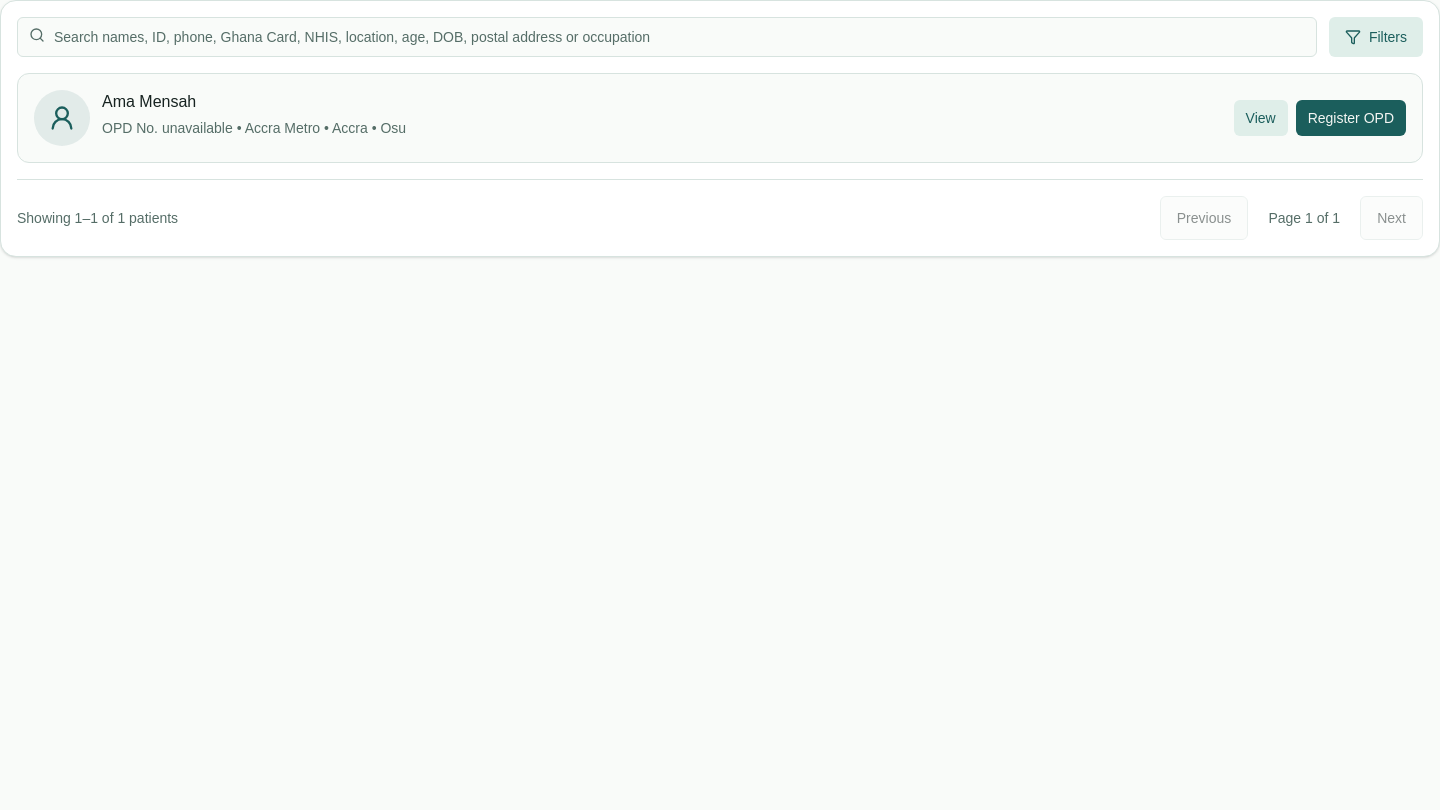
it: PatientSearchList filters › opens filter controls and applies only supported patient-list filters
Check: the text "Ama Mensah" is shown, box [102,93,196,110]
Click the button "Filters" at point(1376, 37), box [1329,17,1423,57]
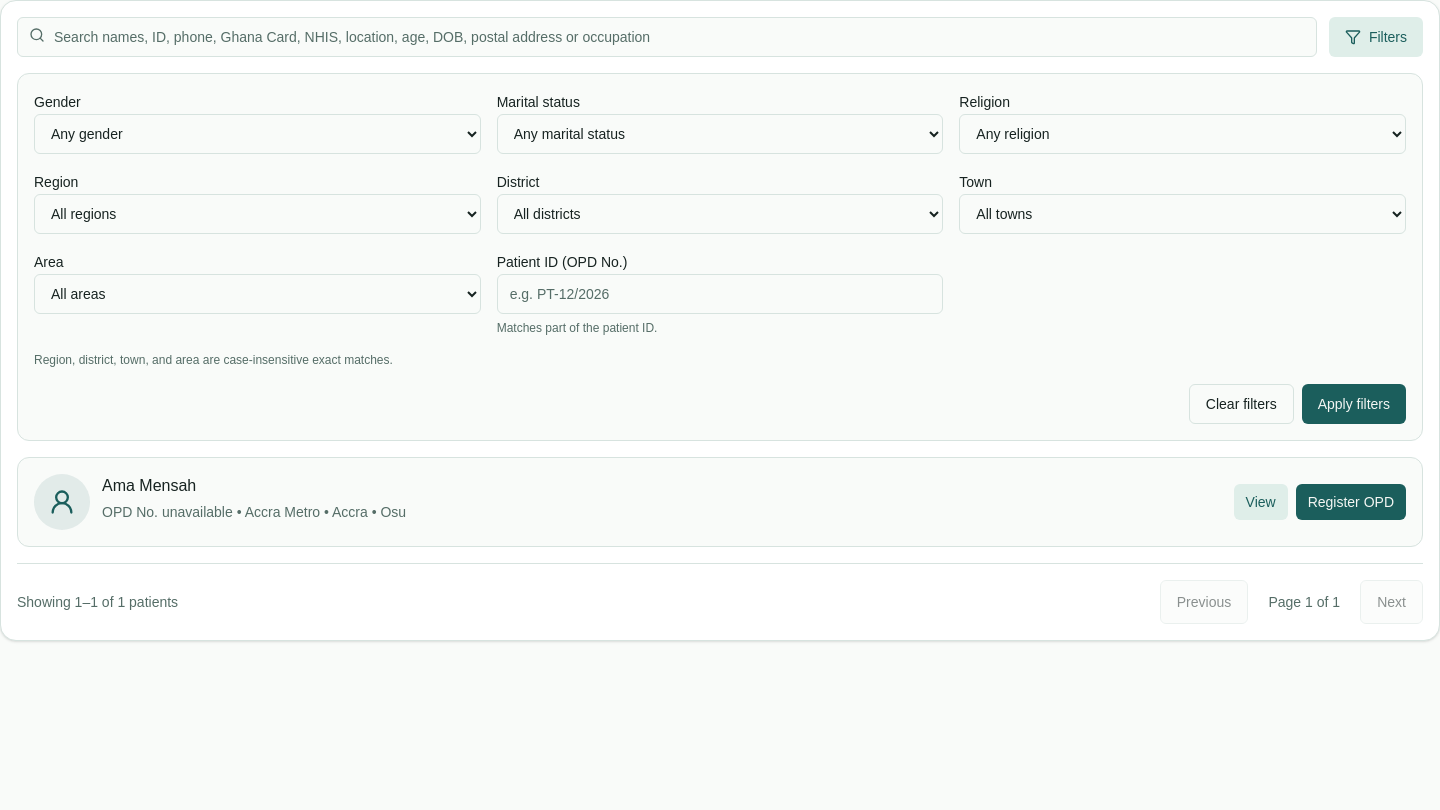
Check: the form named "Filter patients" is shown, box [17,73,1423,441]
Select "Female" in the dropdown labelled "Gender" at point(257, 134), box [34,114,481,154]
Select "Married" in the dropdown labelled "Marital status" at point(720, 134), box [497,114,943,154]
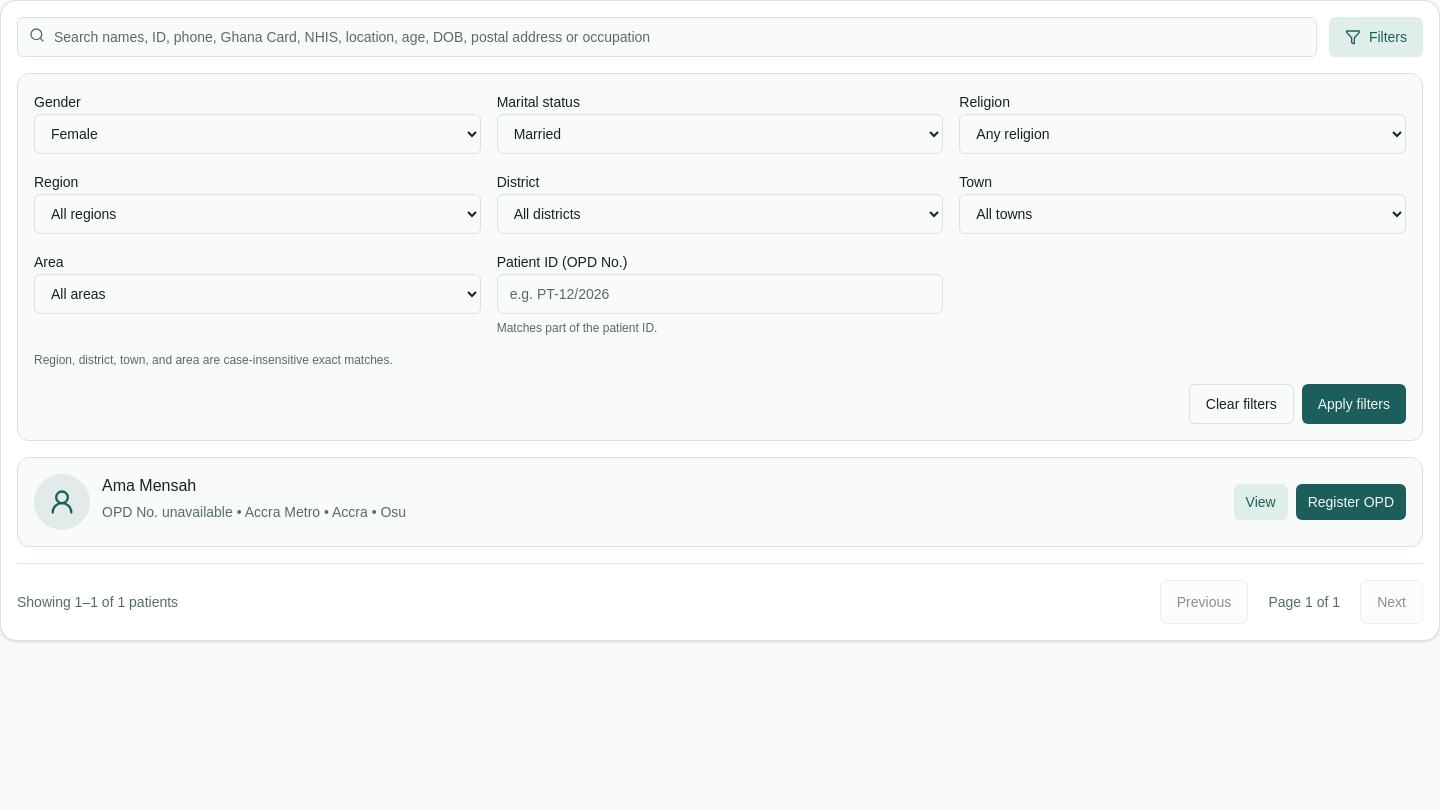
Select "Traditional" in the dropdown labelled "Religion" at point(1183, 134), box [959,114,1406,154]
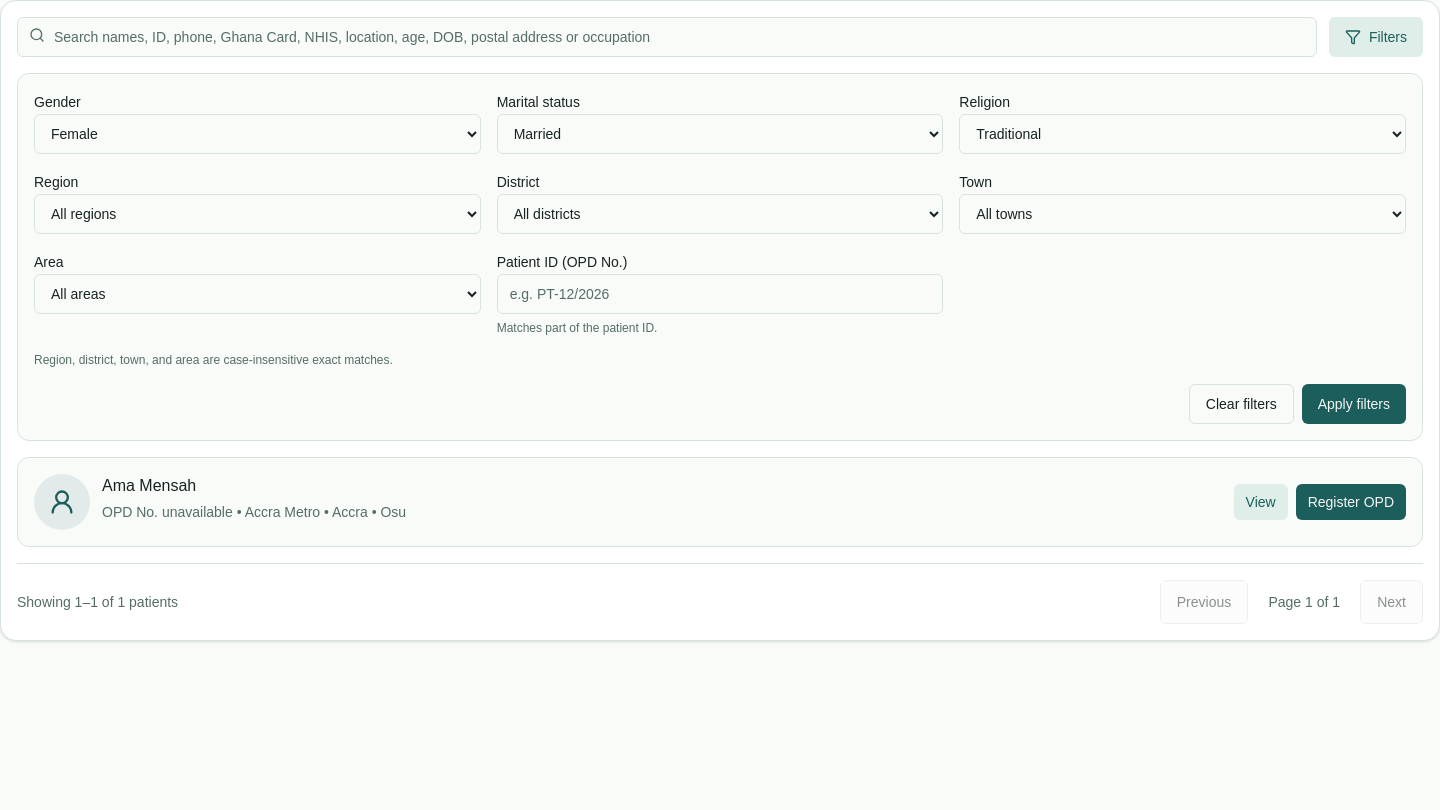
Select "Greater Accra" in the dropdown labelled "region" at point(257, 214), box [34,194,481,234]
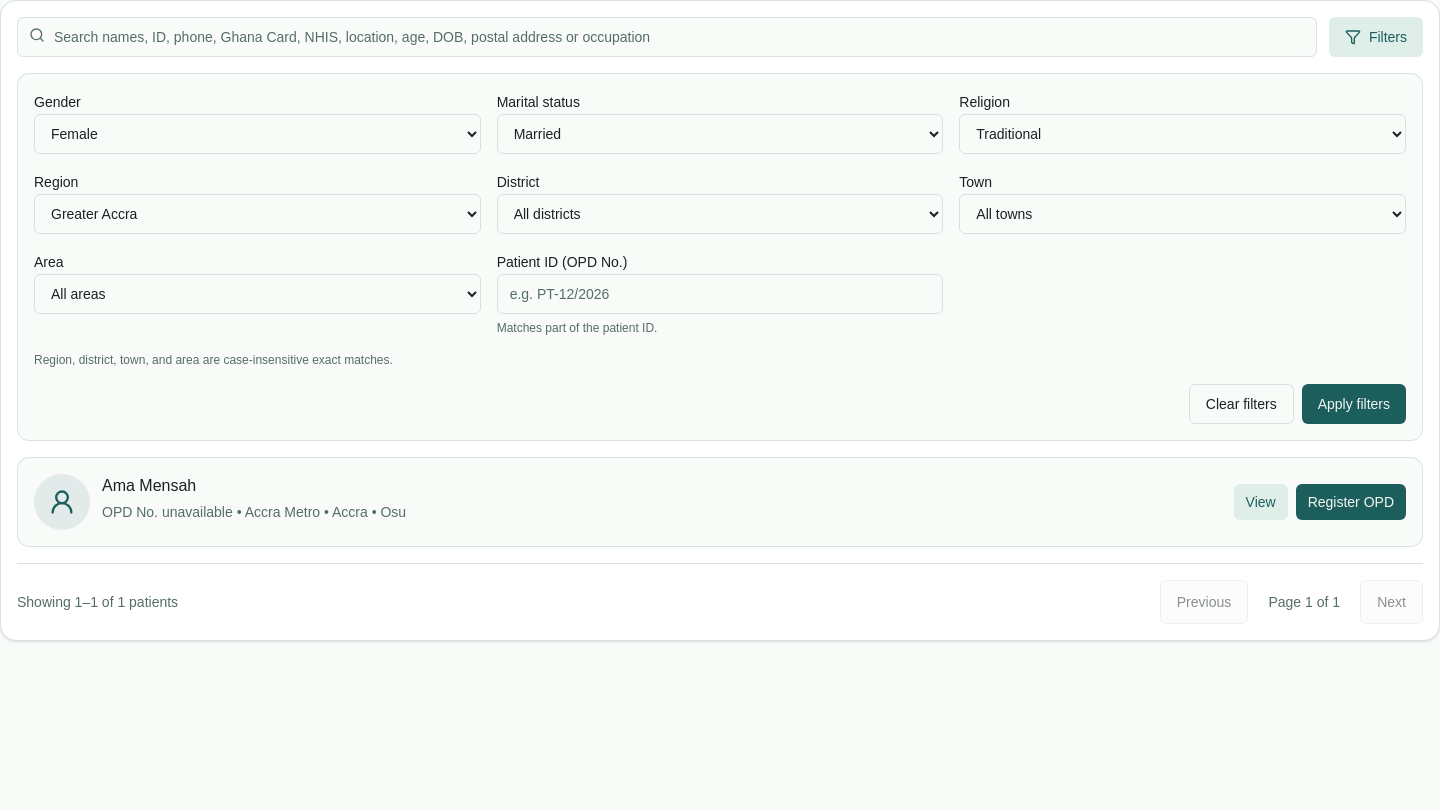
Type "PT-12/2026" into the field labelled "Patient ID (OPD No.)" at point(720, 294), box [497,274,943,314]
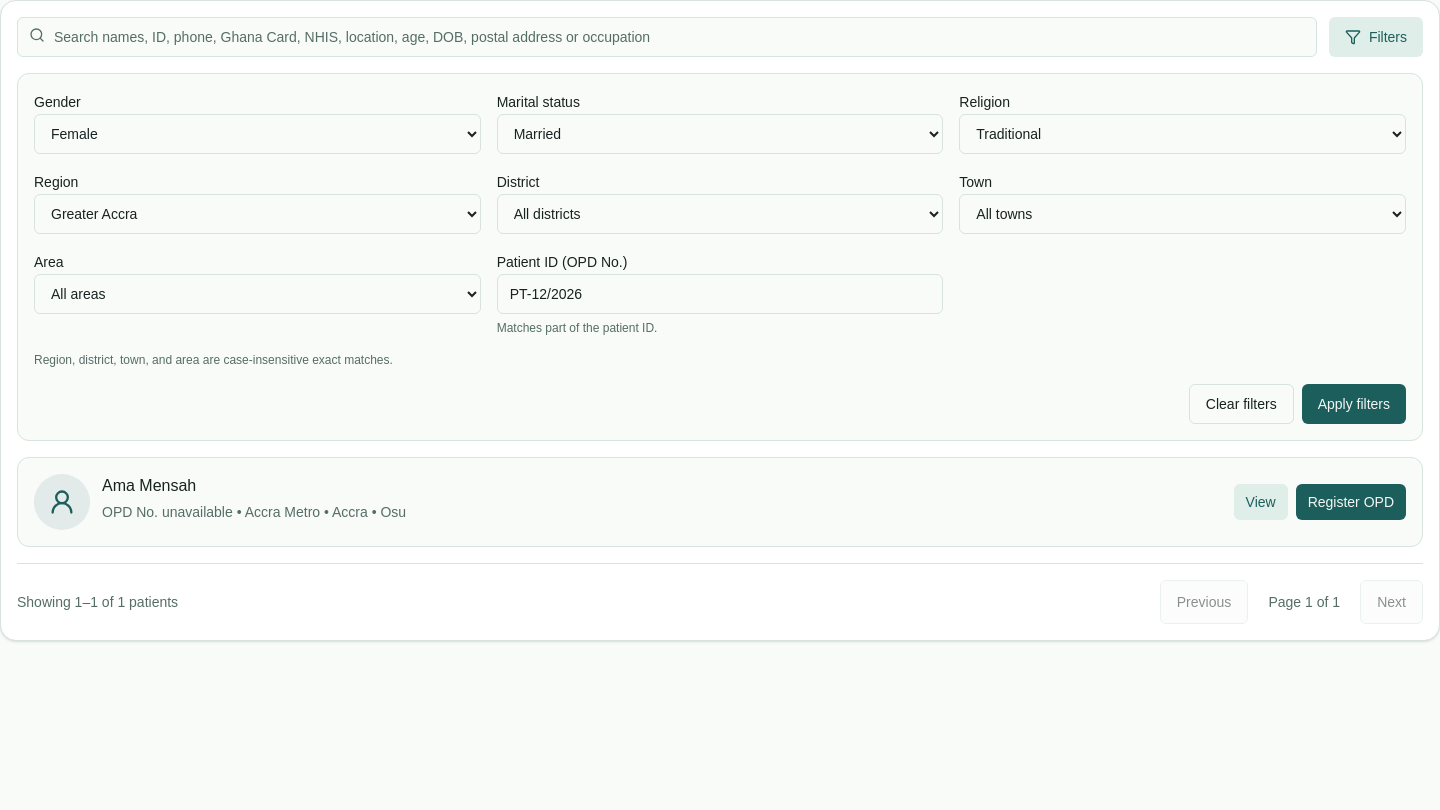
Click the button "Apply filters" at point(1354, 404), box [1302,384,1406,424]
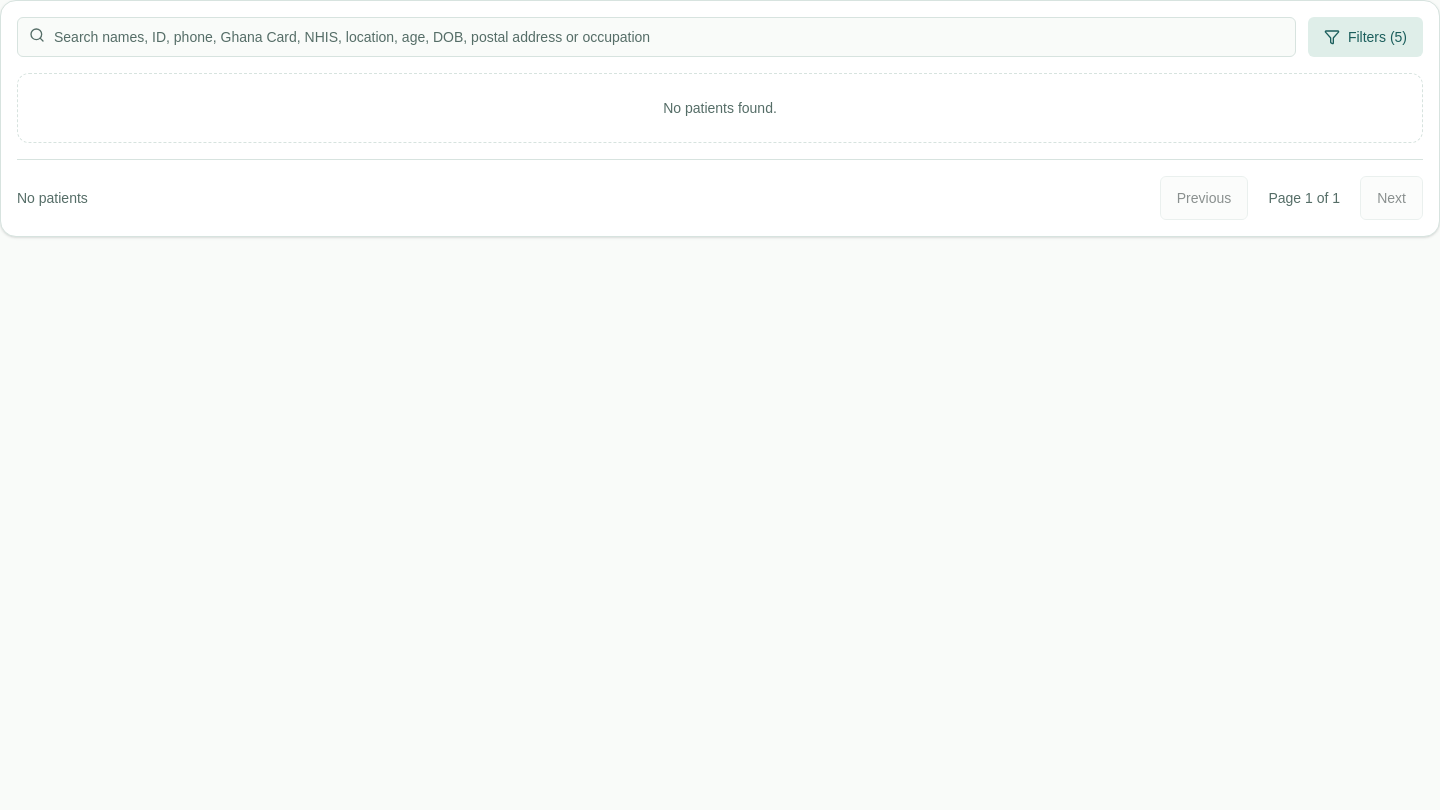
Check: the button "Filters (5)" is shown, box [1308,17,1423,57]
